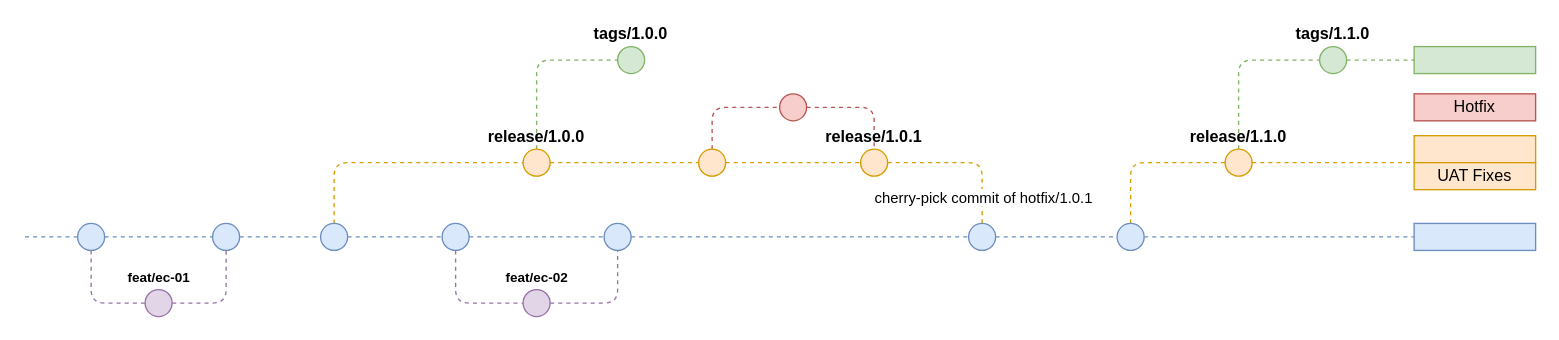
Image size: 1559x340. Some labels were removed from this diagram. Here are the shapes that lost their labels. From the top down, the centre of each, then its label:
At point 1474,59: "Production".
At point 792,106: "hotfix/1.0.1".
At point 1474,148: "UAT".
At point 1474,236: "Main".
